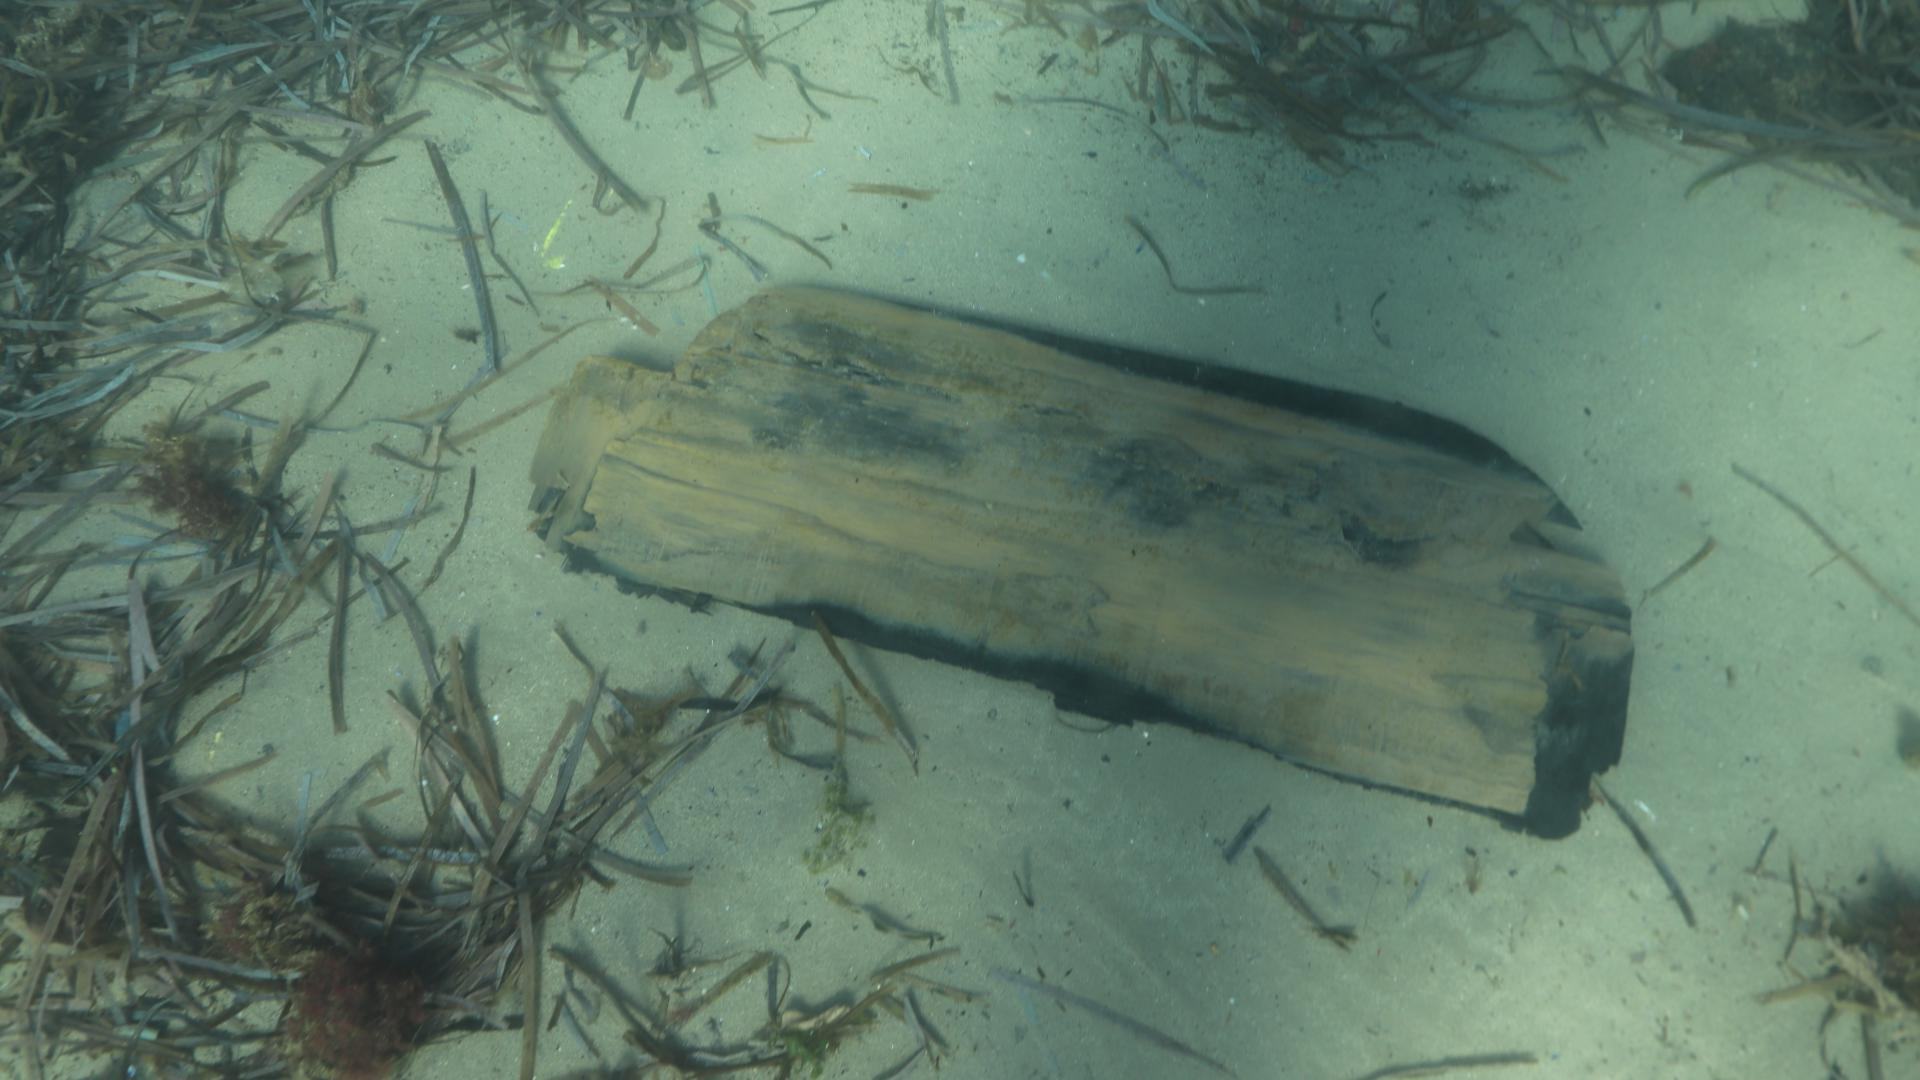wood: (525, 281, 1636, 829)
